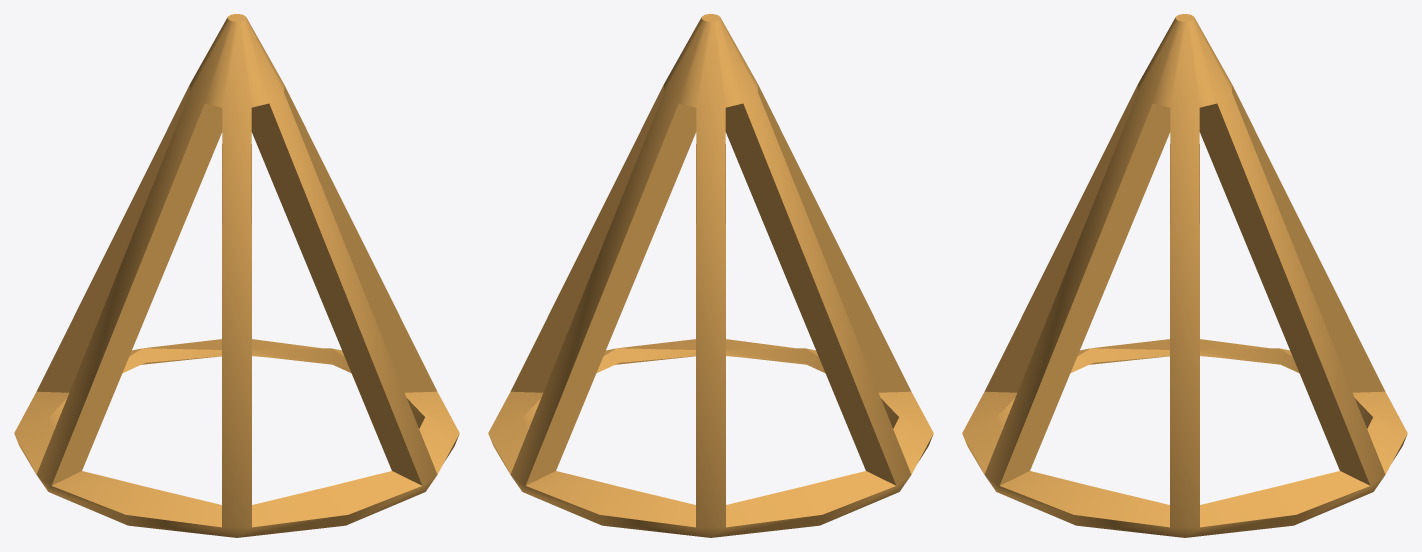
The model's file is ConeMesh_02.fbx.
3 views of the same model, side by side, from view 1: azimuth 30°, elevation 25°; view 2: azimuth 150°, elevation 25°; view 3: azimuth 270°, elevation 25° (orthographic).
Visible parts, largest first — view 1: ConeMesh_02; view 2: ConeMesh_02; view 3: ConeMesh_02.
Boxes of the visible parts, x1,y1,x2,y2 form: ConeMesh_02: [14, 14, 459, 537]; ConeMesh_02: [488, 14, 933, 537]; ConeMesh_02: [962, 14, 1407, 537].
Size of the model in its own units: 286 by 304 by 286.
